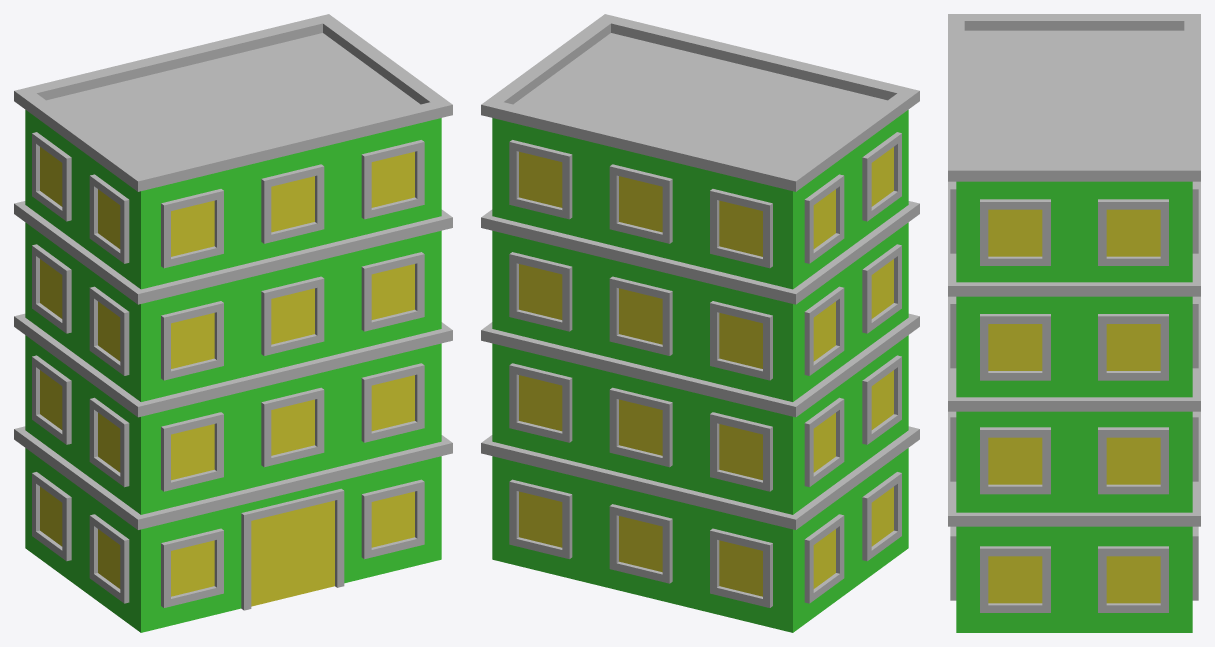
The model's file is Building3.fbx.
3 renders of one model, left to right at view 1: azimuth 30°, elevation 25°; view 2: azimuth 150°, elevation 25°; view 3: azimuth 270°, elevation 25°, orthographic. The views are drawn at different scales.
Visible parts, largest first — view 1: Building3; view 2: Building3; view 3: Building3.
Part boxes in pixels (x1,y1,x2,y2): Building3: (14,14,452,632); Building3: (481,14,919,632); Building3: (948,14,1200,632).
Bounding box in the file's own units: 314 × 435 × 214.
